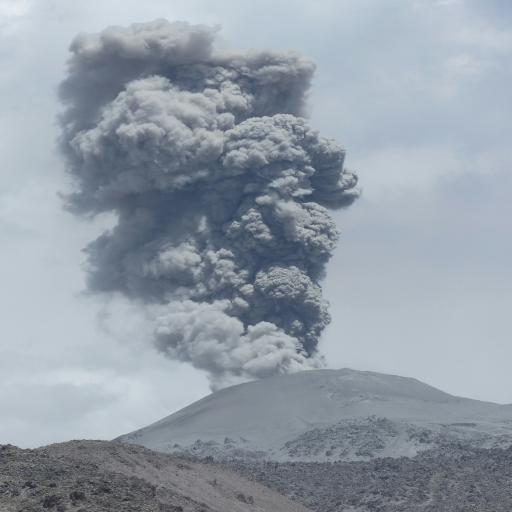smoke: (44, 13, 387, 342)
